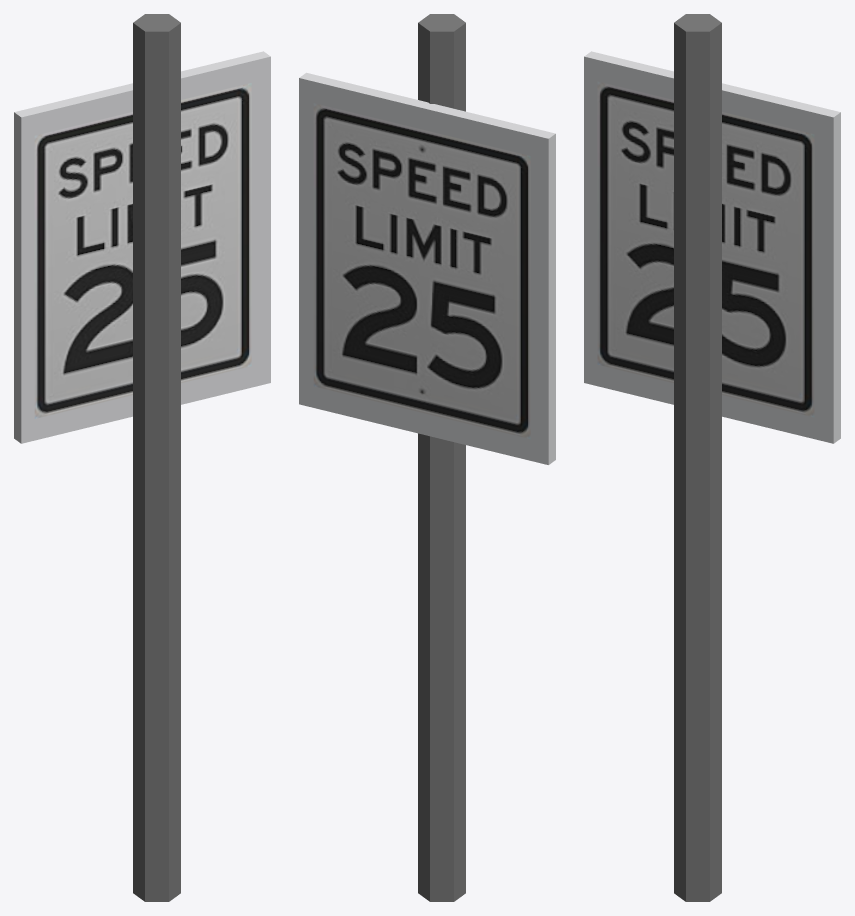
The model's file is speed-limit-sign.fbx.
The picture shows the model from 3 angles, left to right: view 1: azimuth 30°, elevation 25°; view 2: azimuth 150°, elevation 25°; view 3: azimuth 330°, elevation 25°; orthographic projection.
Parts seen in each view (by area): view 1: SpeedLimit25Sign, SpeedLimitSignPost; view 2: SpeedLimit25Sign, SpeedLimitSignPost; view 3: SpeedLimit25Sign, SpeedLimitSignPost.
Part boxes in pixels (bbox=[...]): SpeedLimit25Sign: bbox=[14, 51, 270, 443]; SpeedLimitSignPost: bbox=[133, 14, 180, 901]; SpeedLimit25Sign: bbox=[299, 72, 555, 464]; SpeedLimitSignPost: bbox=[418, 14, 465, 901]; SpeedLimit25Sign: bbox=[584, 51, 840, 443]; SpeedLimitSignPost: bbox=[674, 14, 721, 901].
Bounding box in the file's own units: 60 × 200 × 12.58.
2 materials, 1 textured.
